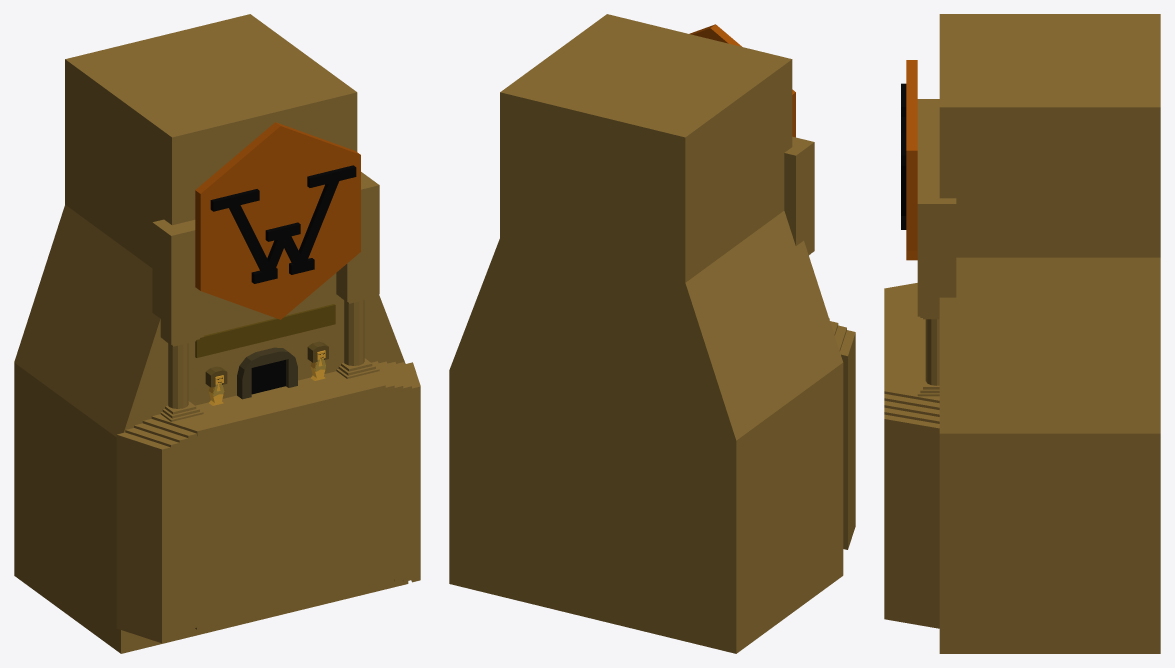
File: temple EX 1.dae
3 views of the same model, side by side, from view 1: azimuth 30°, elevation 25°; view 2: azimuth 150°, elevation 25°; view 3: azimuth 270°, elevation 25° (orthographic). The views are drawn at different scales.
Visible parts, largest first — view 1: Wall.001, Floor.001, BigHex, Cube.019, Cube.029, Cube.022, Cube.017, Cube.021; view 2: Wall.001, Cube.019, Floor.001, BigHex; view 3: Wall.001, Floor.001, Cube.019, BigHex, Cube.029.
Part boxes in pixels (<box>): Wall.001: <box>14,14,408,653</box>; Floor.001: <box>116,361,420,643</box>; BigHex: <box>195,122,360,319</box>; Cube.019: <box>152,172,379,421</box>; Cube.029: <box>210,165,356,283</box>; Cube.022: <box>195,304,335,357</box>; Cube.017: <box>237,347,297,399</box>; Cube.021: <box>251,359,285,394</box>; Wall.001: <box>449,14,843,653</box>; Cube.019: <box>784,136,814,255</box>; Floor.001: <box>829,318,855,549</box>; BigHex: <box>689,24,795,137</box>; Wall.001: <box>939,14,1160,653</box>; Floor.001: <box>884,283,939,628</box>; Cube.019: <box>917,99,956,396</box>; BigHex: <box>906,60,917,260</box>; Cube.029: <box>901,83,906,229</box>.
Size of the model in its own units: 64 by 50 by 104.
